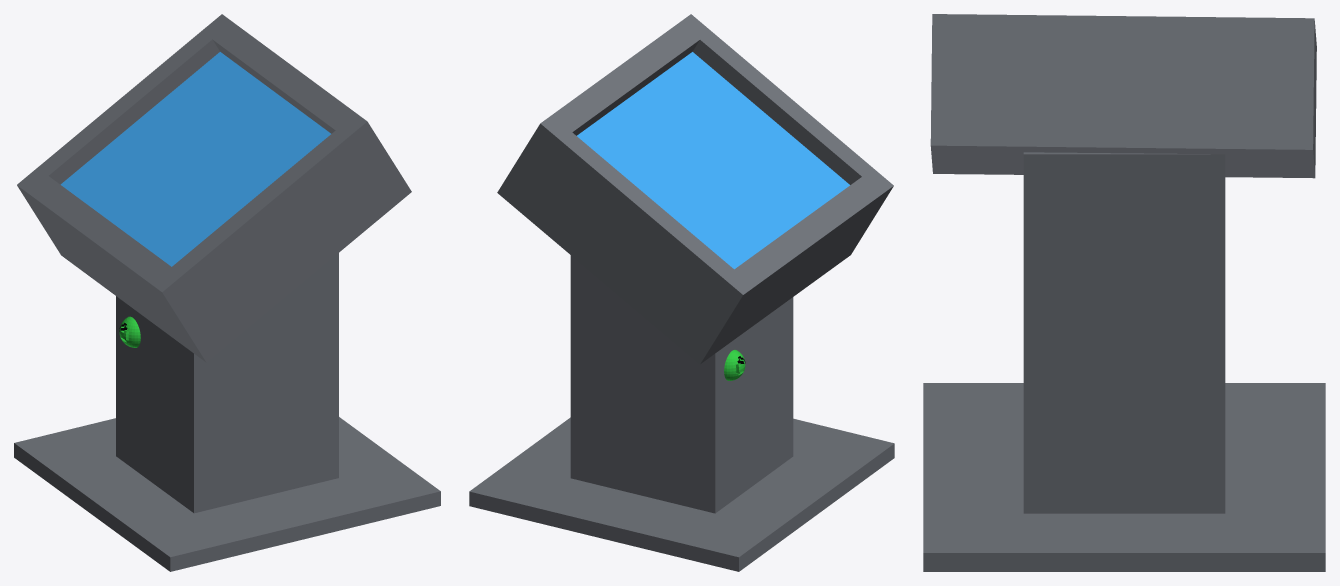
Rendered from Terminal.glb.
3 renders of one model, left to right at view 1: azimuth 30°, elevation 25°; view 2: azimuth 150°, elevation 25°; view 3: azimuth 270°, elevation 25°, orthographic. The views are drawn at different scales.
Visible parts, largest first — view 1: Cube; view 2: Cube; view 3: Cube.
Part boxes in pixels (x1=…): Cube: x1=14, y1=14, x2=440, y2=571; Cube: x1=469, y1=14, x2=894, y2=571; Cube: x1=923, y1=14, x2=1325, y2=571.
Bounding box in the file's own units: 2.03 × 2.82 × 2.
